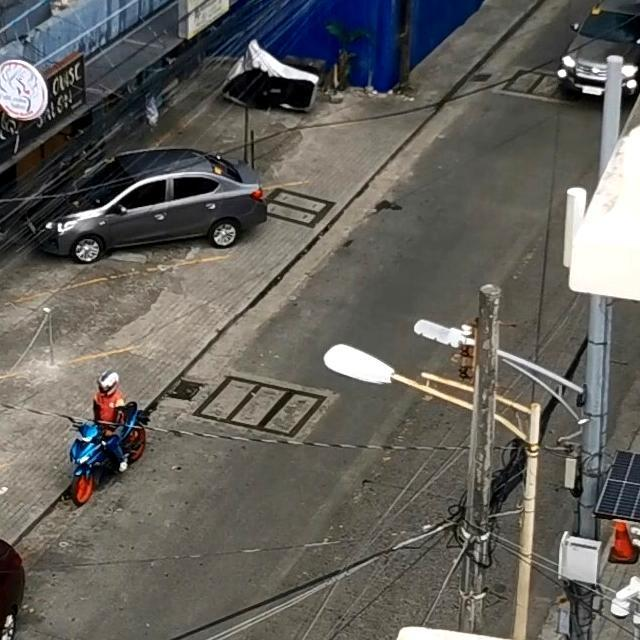Motorcycle: (58, 362, 154, 506)
